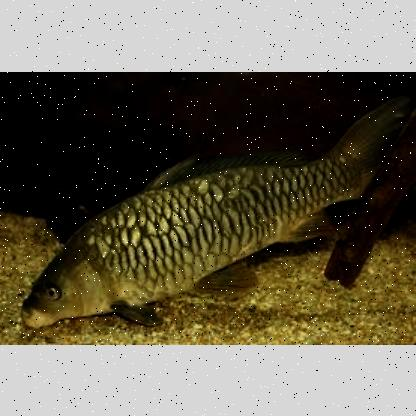ikan-mas: (26, 152, 387, 326)
